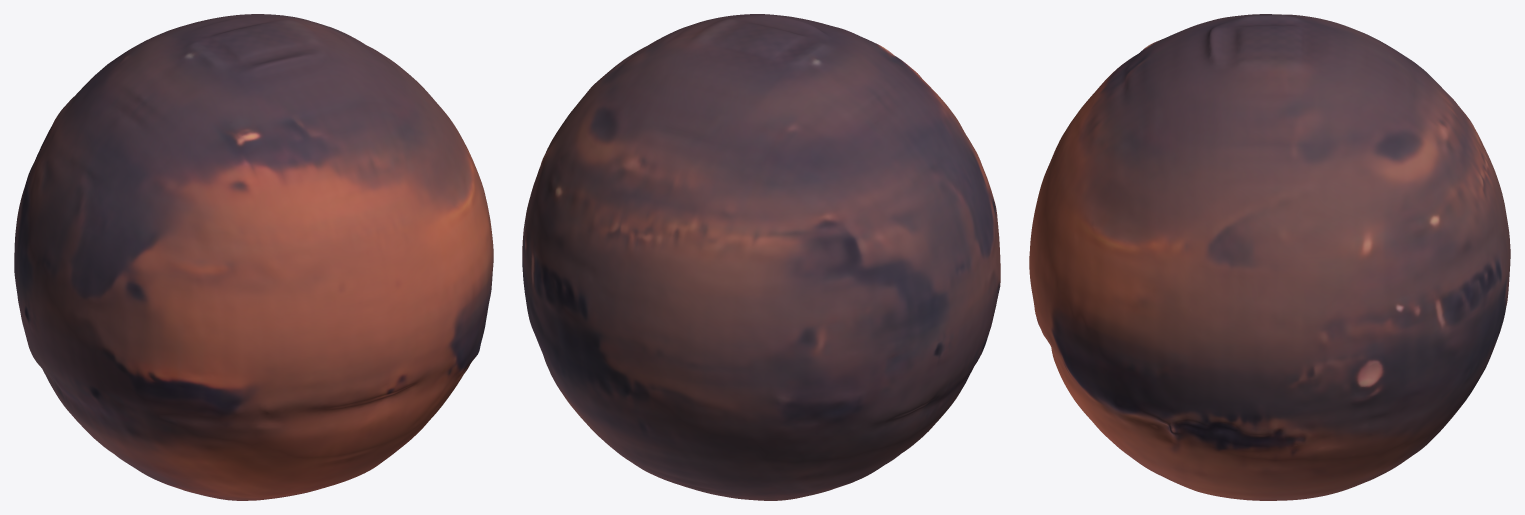
File: planet_mars.glb
3 renders of one model, left to right at view 1: azimuth 30°, elevation 25°; view 2: azimuth 150°, elevation 25°; view 3: azimuth 270°, elevation 25°, orthographic.
Visible parts, largest first — view 1: world; view 2: world; view 3: world.
Part boxes in pixels (x1,y1,x2,y2): world: (14, 14, 493, 500); world: (522, 14, 1000, 500); world: (1029, 14, 1510, 500).
Bounding box in the file's own units: 0.5967 × 0.6084 × 0.598.
1 material, 1 textured.
